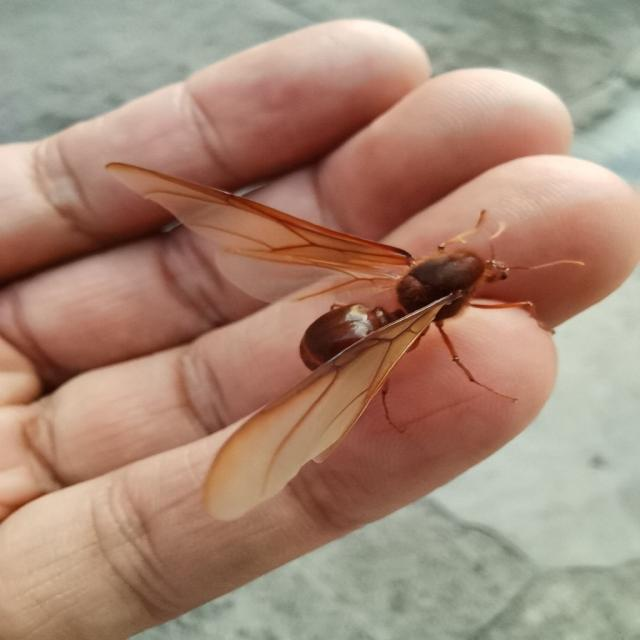Alive-Male-Alate: (105, 162, 585, 523)
